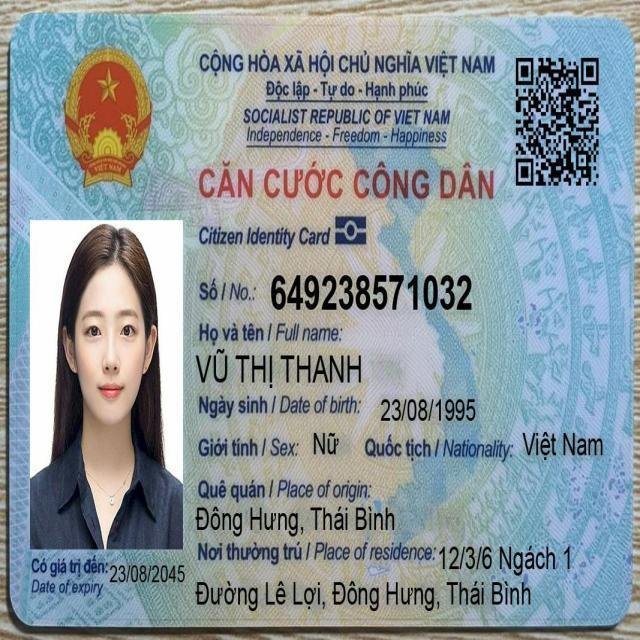current_place: (191, 576, 534, 616), (436, 537, 576, 580)
dob: (377, 392, 478, 427)
expire_date: (107, 559, 188, 588)
gender: (310, 425, 342, 461)
id: (267, 265, 476, 318)
name: (192, 343, 366, 391)
nationality: (519, 424, 607, 465)
origin_place: (193, 501, 398, 540)
